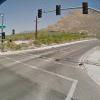Traffic light: (31, 2, 94, 25)
